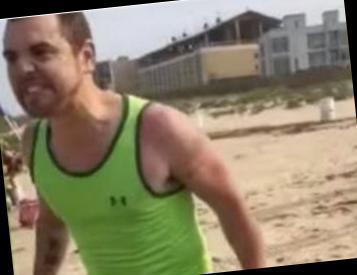Drunk: (3, 21, 73, 115)
